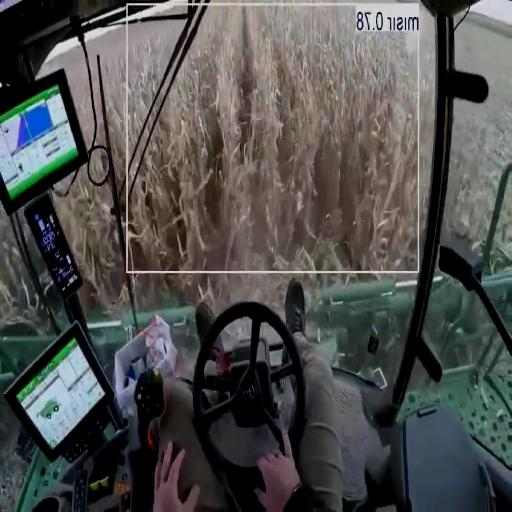misir: (129, 7, 435, 270), (109, 29, 173, 162)
